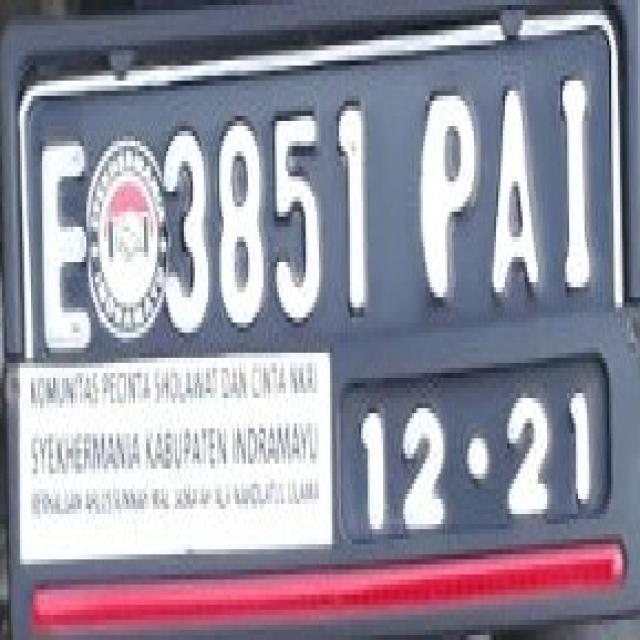plate: (11, 26, 638, 560)
